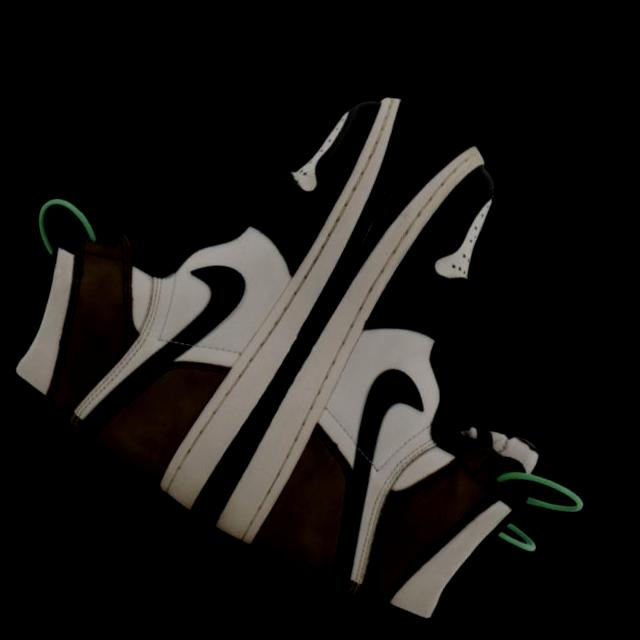nike_original_jordan: (177, 88, 640, 640), (0, 0, 451, 555)
